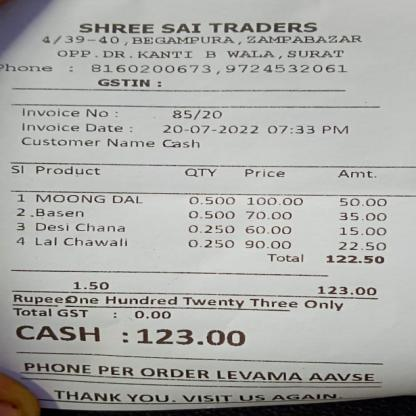receipts: (0, 2, 414, 410)
